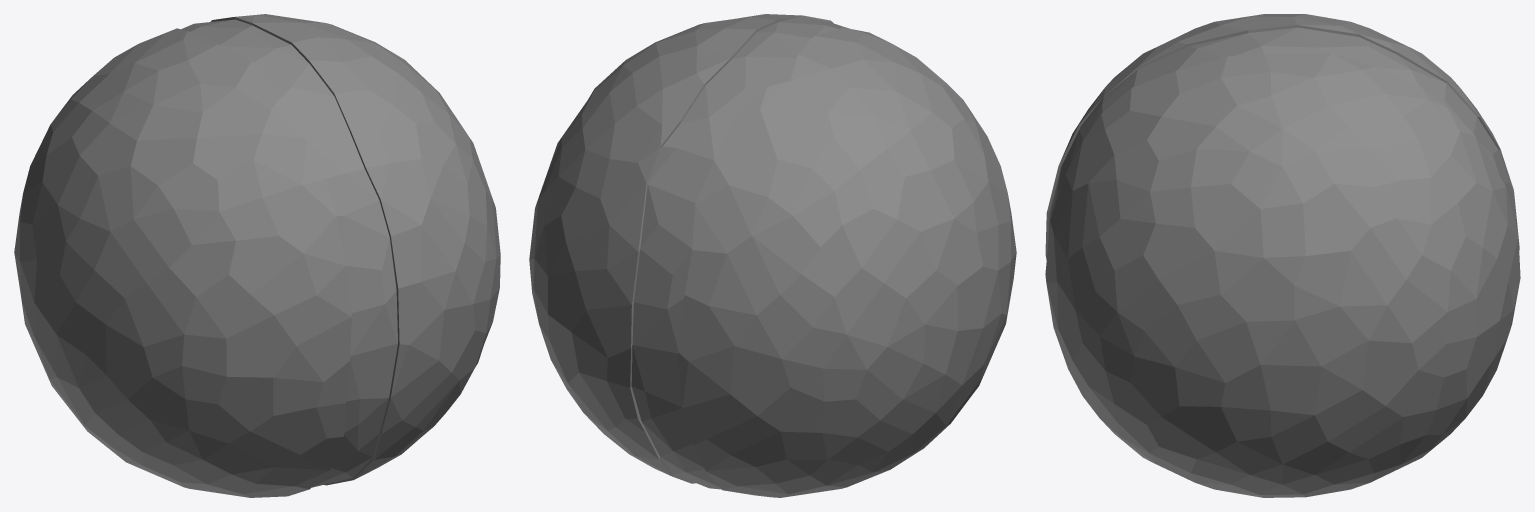
The model's file is moon.fbx.
3 views of the same model, side by side, from view 1: azimuth 30°, elevation 25°; view 2: azimuth 150°, elevation 25°; view 3: azimuth 270°, elevation 25° (orthographic).
Parts seen in each view (by area): view 1: Cube.014; view 2: Cube.014; view 3: Cube.014.
Part boxes in pixels (x1,y1,x2,y2): Cube.014: (14, 14, 500, 497); Cube.014: (529, 14, 1016, 497); Cube.014: (1045, 14, 1520, 497).
Bounding box in the file's own units: 168 × 167 × 167.
